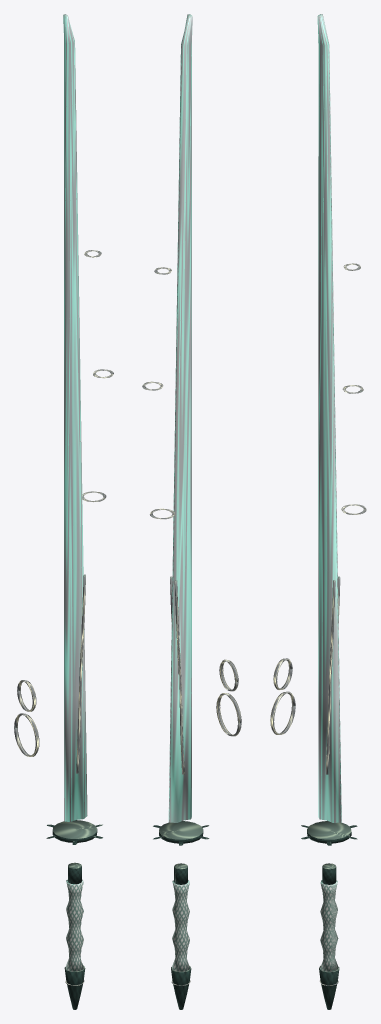
The model's file is sword_11_saint_reincarnated.glb.
3 renders of one model, left to right at view 1: azimuth 30°, elevation 25°; view 2: azimuth 210°, elevation 25°; view 3: azimuth 330°, elevation 25°, orthographic.
Parts seen in each view (by area): view 1: Blade_SaintSilver, Grip_SaintSilk, Tsuba_LotusRing, Halo_SaintHalo, Inlay_RebirthSpiral, Pommel_SaintGem, Echo_PastLifeRings, Collar_SaintFerrule; view 2: Blade_SaintSilver, Grip_SaintSilk, Tsuba_LotusRing, Inlay_RebirthSpiral, Halo_SaintHalo, Pommel_SaintGem, Echo_PastLifeRings, Collar_SaintFerrule; view 3: Blade_SaintSilver, Grip_SaintSilk, Tsuba_LotusRing, Inlay_RebirthSpiral, Halo_SaintHalo, Pommel_SaintGem, Collar_SaintFerrule, Echo_PastLifeRings.
Part boxes in pixels (<box>): Blade_SaintSilver: <box>63,14,87,821</box>; Grip_SaintSilk: <box>65,879,83,971</box>; Tsuba_LotusRing: <box>46,820,102,844</box>; Halo_SaintHalo: <box>14,680,39,756</box>; Inlay_RebirthSpiral: <box>76,574,85,773</box>; Pommel_SaintGem: <box>64,965,85,1009</box>; Echo_PastLifeRings: <box>82,250,113,502</box>; Collar_SaintFerrule: <box>68,862,81,884</box>; Blade_SaintSilver: <box>168,14,192,822</box>; Grip_SaintSilk: <box>172,880,189,971</box>; Tsuba_LotusRing: <box>153,821,209,845</box>; Inlay_RebirthSpiral: <box>170,576,184,774</box>; Halo_SaintHalo: <box>216,659,241,736</box>; Pommel_SaintGem: <box>171,965,191,1009</box>; Echo_PastLifeRings: <box>142,267,174,519</box>; Collar_SaintFerrule: <box>174,863,187,884</box>; Blade_SaintSilver: <box>317,14,341,822</box>; Grip_SaintSilk: <box>320,880,338,971</box>; Tsuba_LotusRing: <box>301,820,357,845</box>; Inlay_RebirthSpiral: <box>325,576,340,774</box>; Halo_SaintHalo: <box>270,658,295,734</box>; Pommel_SaintGem: <box>319,965,339,1009</box>; Collar_SaintFerrule: <box>322,863,336,884</box>; Echo_PastLifeRings: <box>341,263,366,514</box>.
Bounding box in the file's own units: 0.2318 × 2.6 × 0.1326.
Materials: 1 (1 with a texture image).
